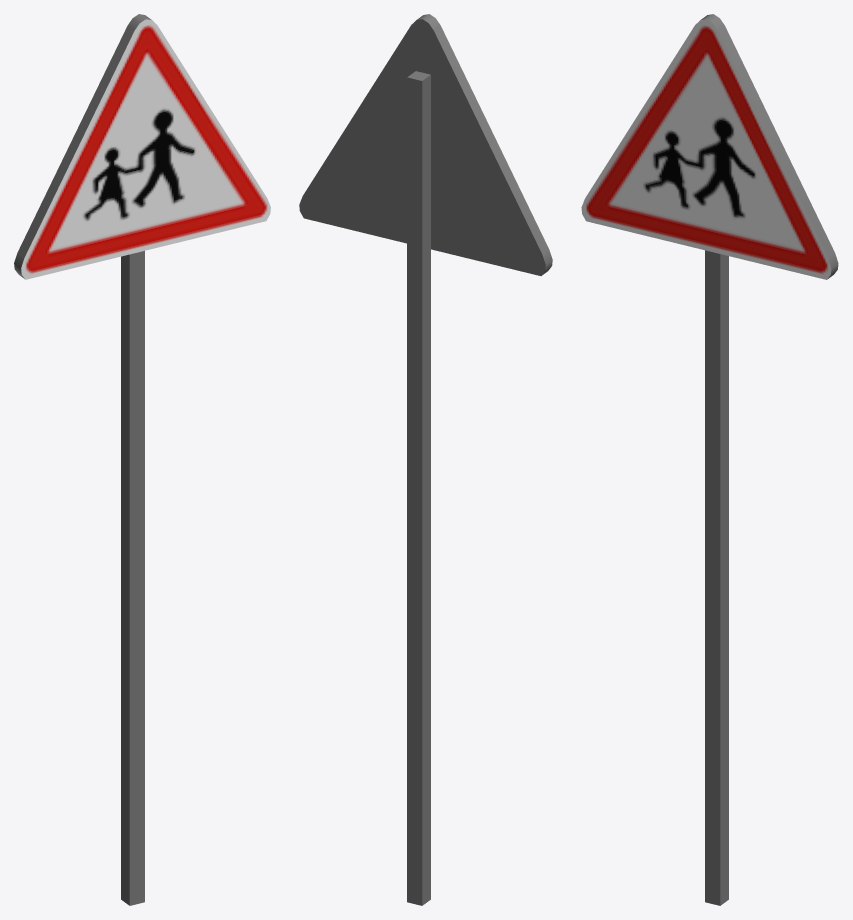
Rendered from SchoolZone.obj.
3 views of the same model, side by side, from view 1: azimuth 30°, elevation 25°; view 2: azimuth 150°, elevation 25°; view 3: azimuth 330°, elevation 25° (orthographic).
Parts seen in each view (by area): view 1: Sign_SchoolZone; view 2: Sign_SchoolZone; view 3: Sign_SchoolZone.
Part boxes in pixels (x1=…): Sign_SchoolZone: x1=14, y1=14, x2=270, y2=905; Sign_SchoolZone: x1=299, y1=14, x2=552, y2=905; Sign_SchoolZone: x1=581, y1=14, x2=838, y2=905.
Size of the model in its own units: 1.38 by 4.7 by 0.1552.
Materials: 1 (1 with a texture image).
